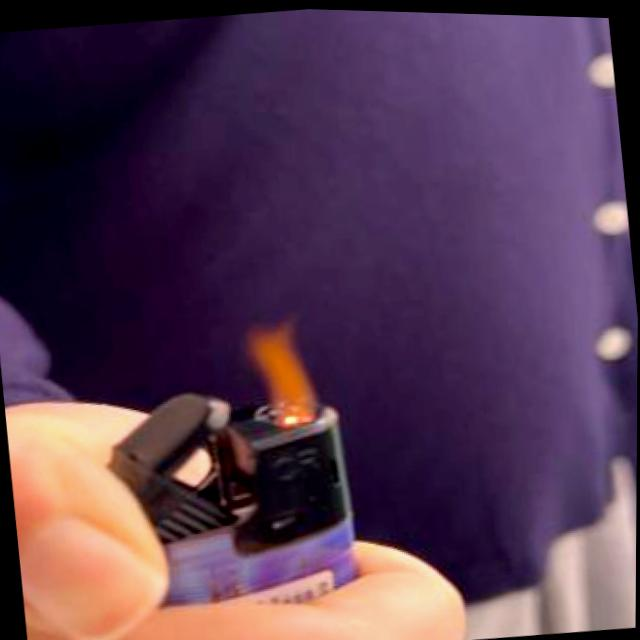fire: (239, 308, 322, 429)
